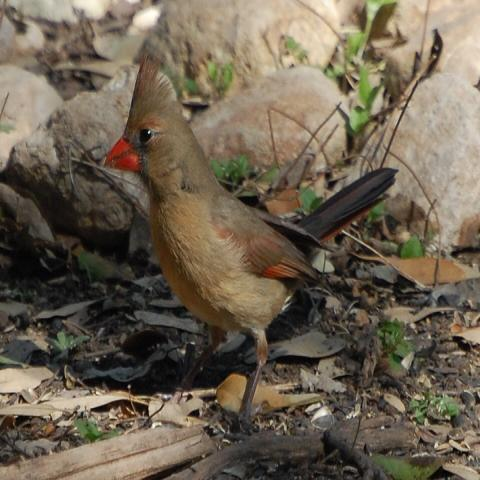bird: (101, 50, 399, 428)
